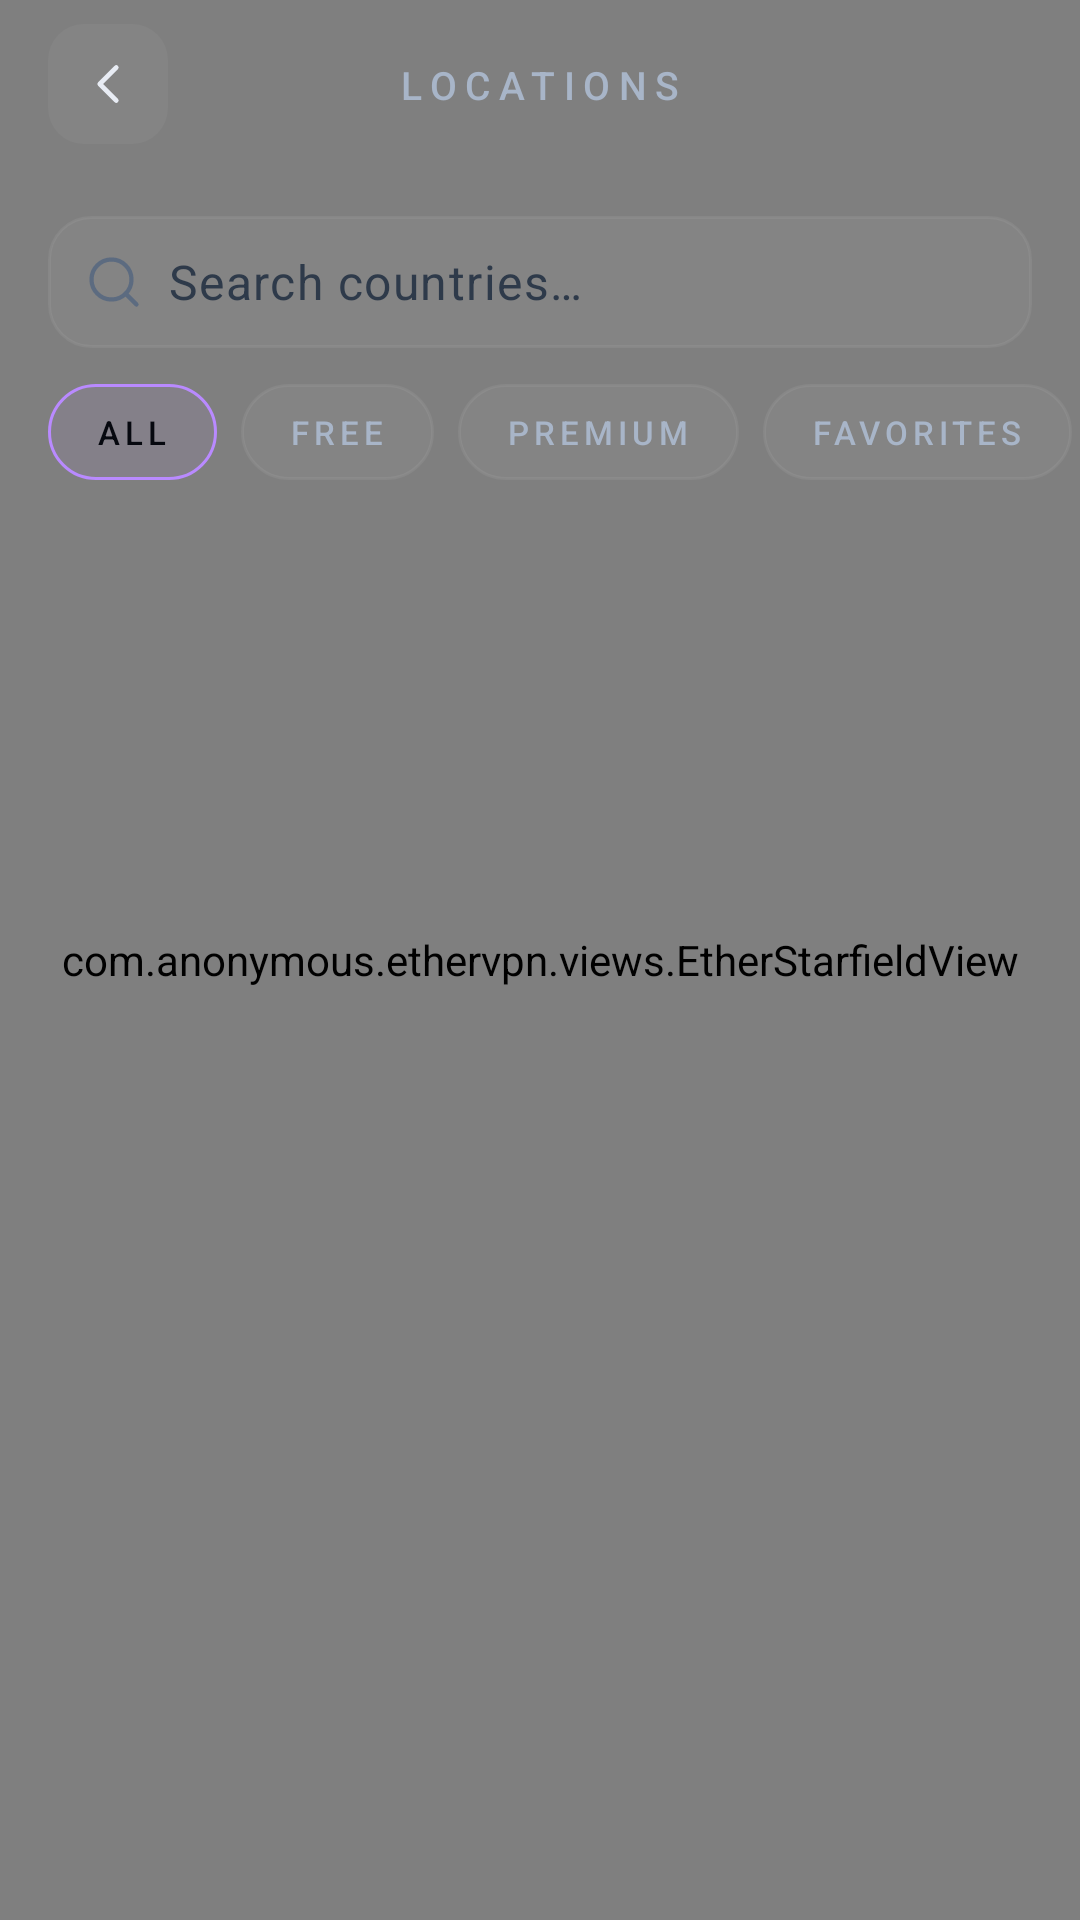

Icon bounding boxes for this 1080px x 1920px phone screenshot, format (x1, y1, x2, y2):
Back: (97, 65, 119, 103)
